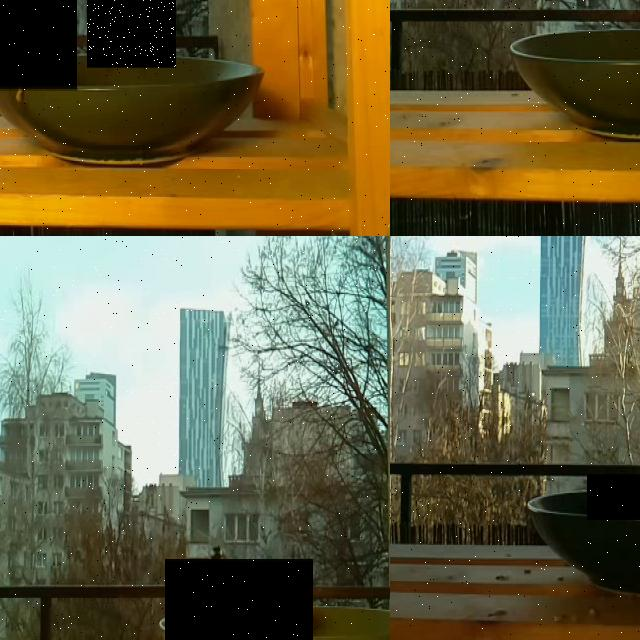Bogatka: (165, 559, 313, 640), (0, 0, 77, 90)
Modraszka: (587, 474, 640, 519)
Wrobel: (87, 0, 176, 67)
